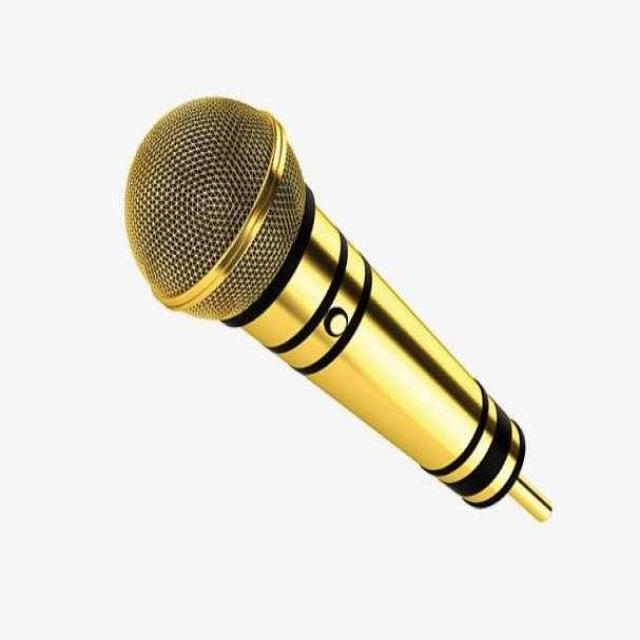microphone: (126, 95, 544, 528)
